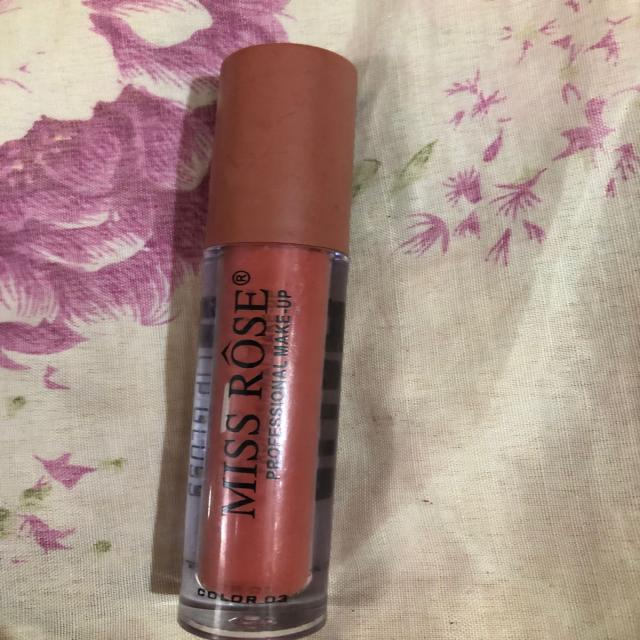lip gloss: (148, 29, 381, 640)
